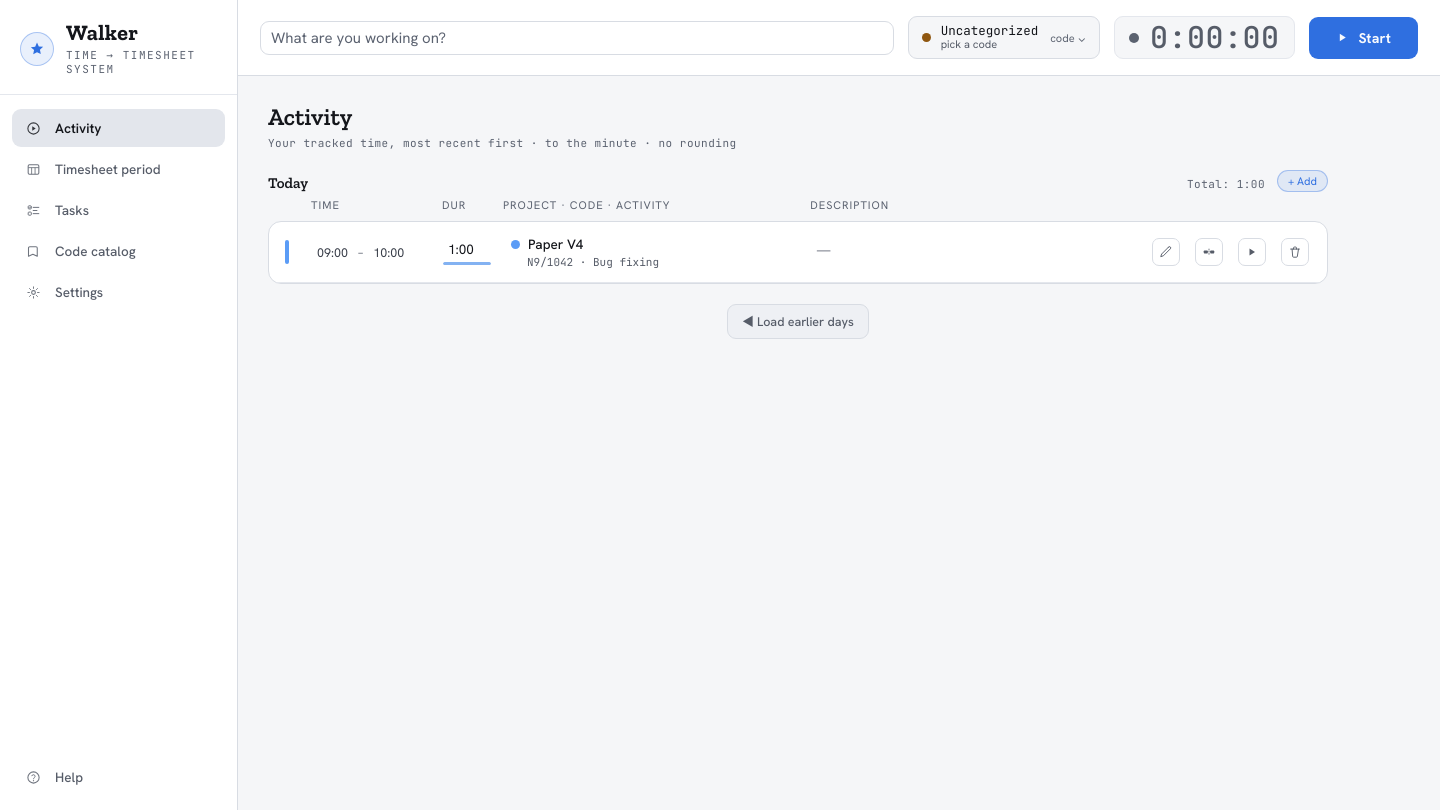
it: App — code picker stacks above the Timesheet-period cell modal (TEC-009) › opens the Categorize picker after the cell modal in the DOM so it renders on top
The width and height of the screenshot is (1440, 810).
What coordinates should you click on to do the following:
click the button "Timesheet period"
I would click on:
 (118, 169)
Its box is [12,150,225,188].
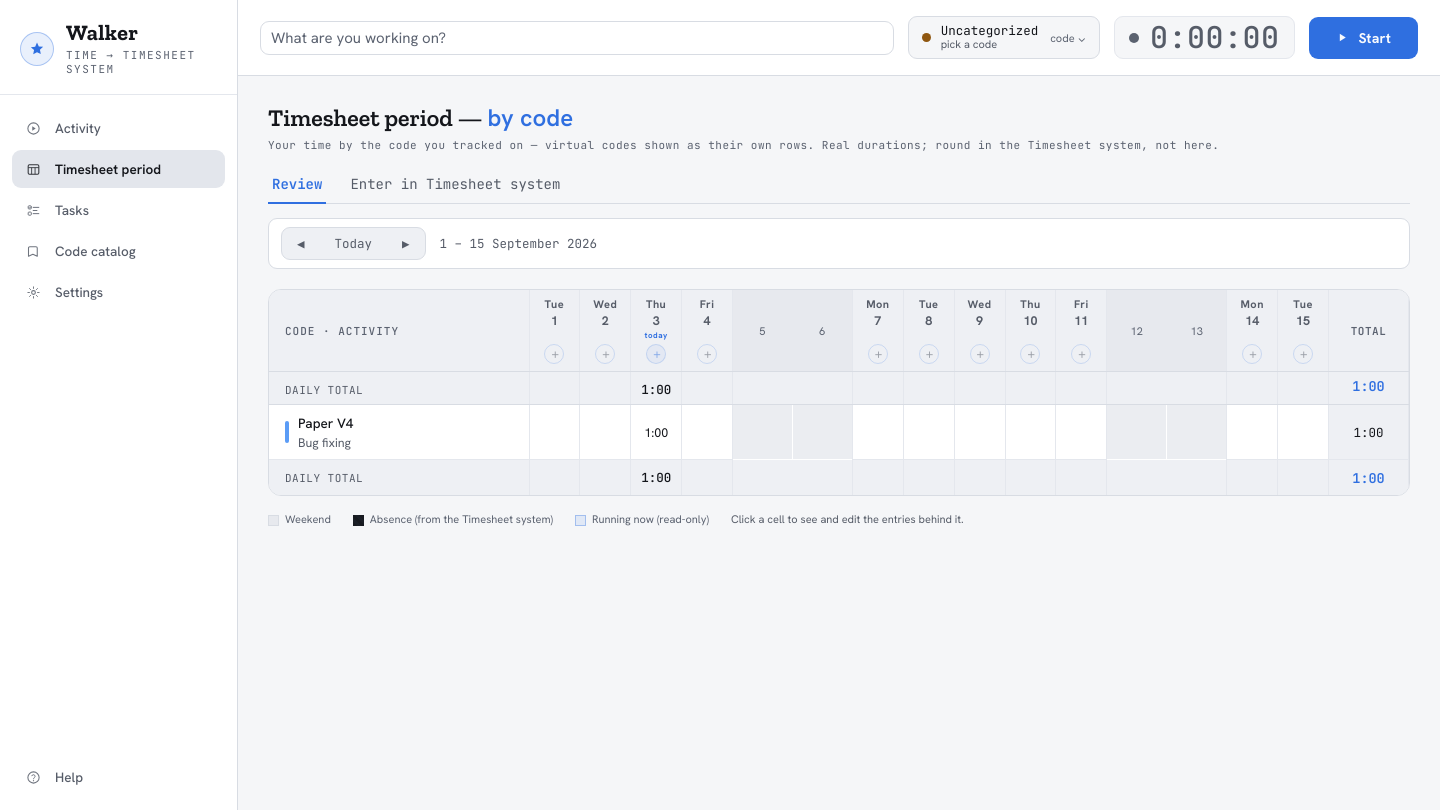
Check: the 3rd text "1:00" is shown
What coordinates should you click on to do the following:
click the 3rd text "1:00"
I would click on:
 (656, 432)
Its box is [631,404,682,460].
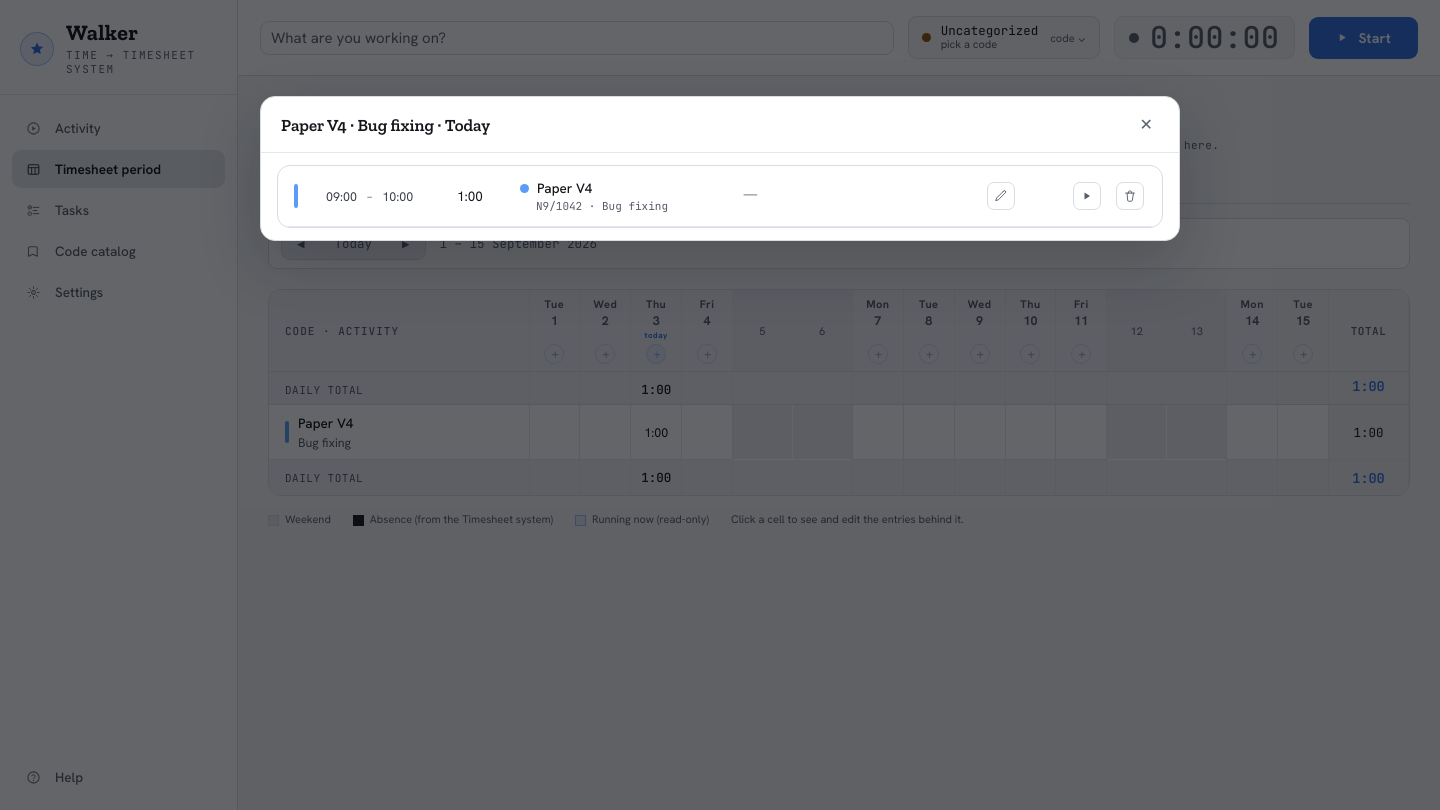
Check: the text "Paper V4 · Bug fixing ·" is shown, box [281,114,490,134]
What coordinates should you click on to do the following:
click the element with class "wk-code-cell"
I would click on:
 (594, 196)
Its box is [520,179,668,213].
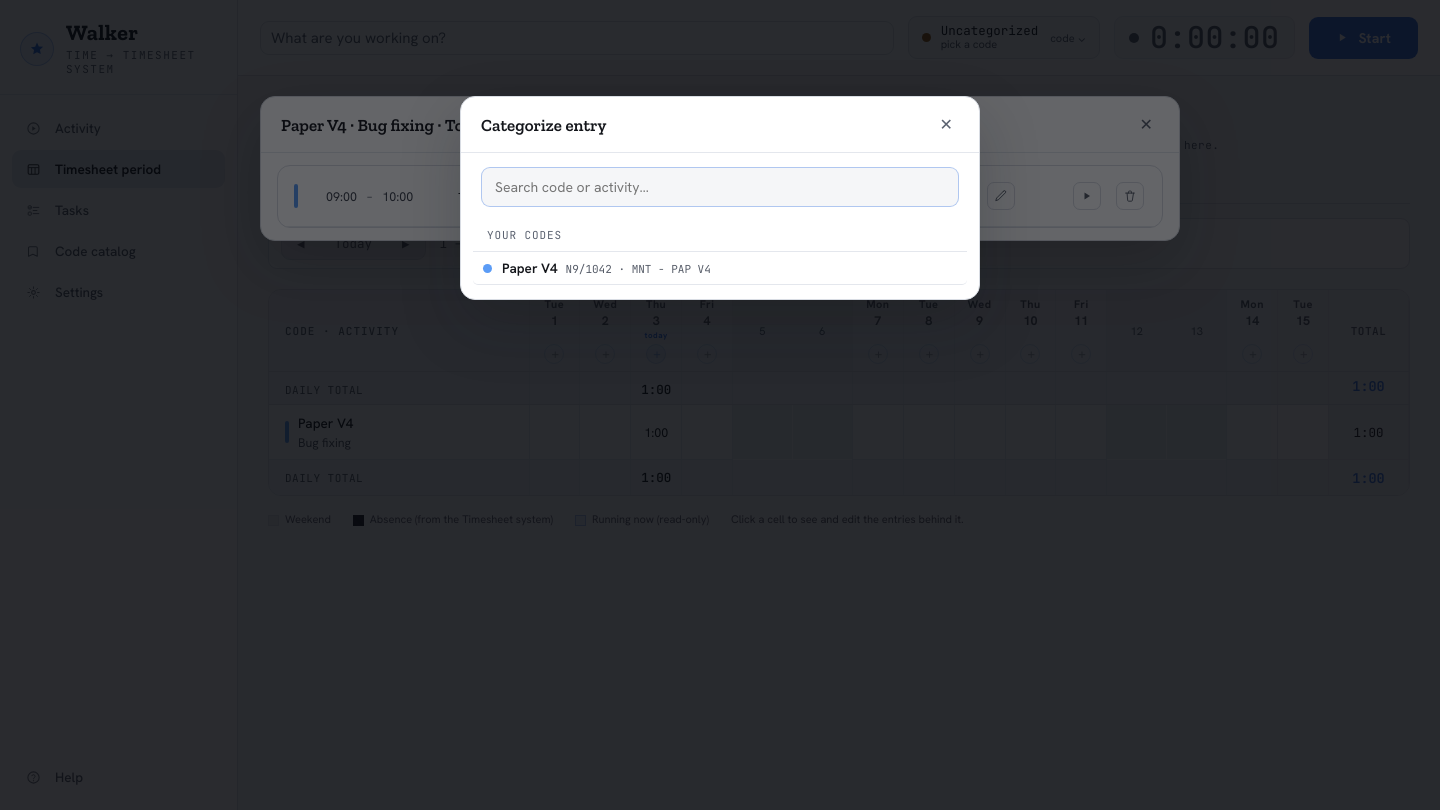
Check: the text "Categorize entry" is shown, box [481,114,606,134]
